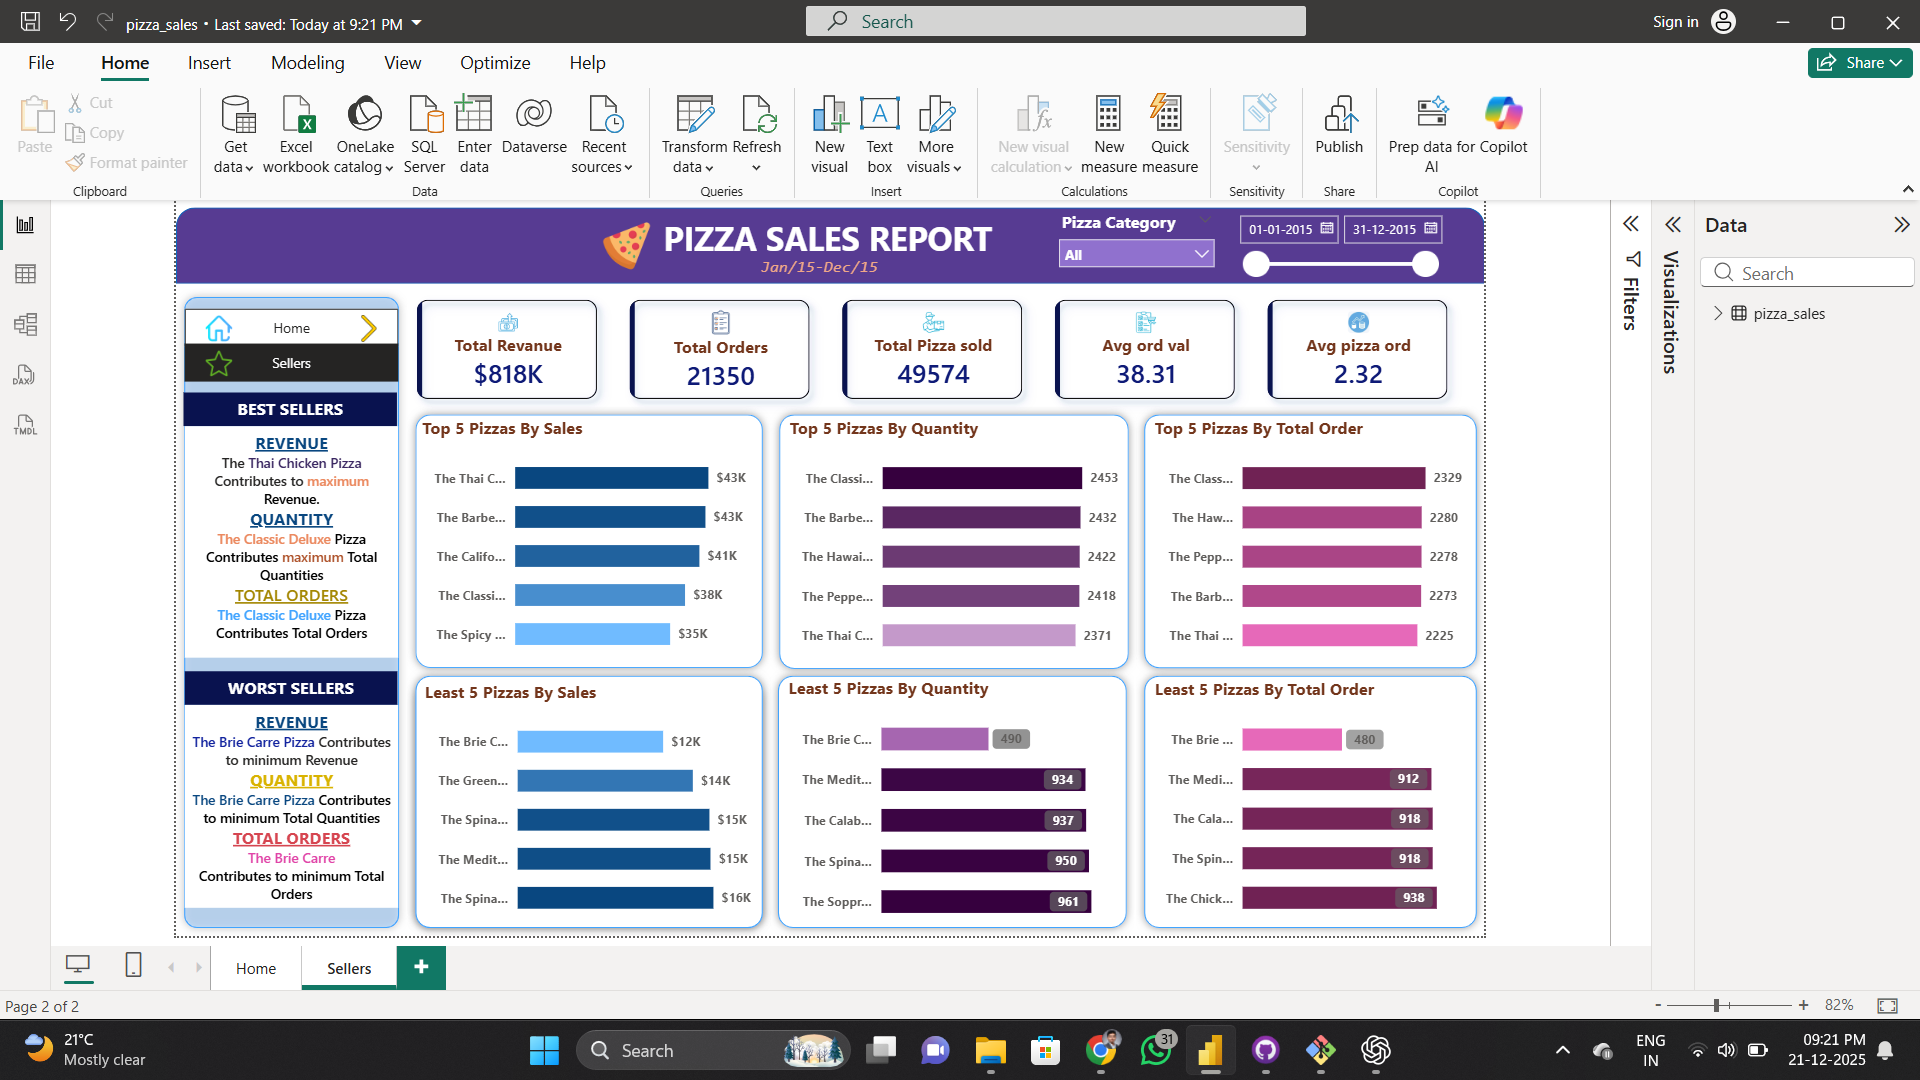

The page's visual inventory and layout, read from the dashboard file:
{"tool":"powerbi","page":{"name":"Sellers","canvas":[1280,720],"ordinal":1},"visuals":[{"type":"shape","box":[0,7.3,1280.3,74.6],"z":0},{"type":"textbox","box":[472,11,335.1,55],"z":1000},{"type":"textbox","box":[567.4,51.4,134.5,30.6],"z":2000},{"type":"cardVisual","fields":{"Data":["pizza_sales.Pizza sold"]},"box":[256.8,0,225,90.5],"z":3000},{"type":"shape","box":[226.2,201.8,355.8,264.1],"z":4000},{"type":"shape","box":[0,86.6,226.2,633.4],"z":5000},{"type":"textbox","box":[8.6,461,207.9,33],"z":6000},{"type":"textbox","box":[8.6,221.3,209.1,226.2],"z":7000},{"type":"textbox","box":[7.3,188.3,209.1,33],"z":8000},{"type":"textbox","box":[8.6,494,209.1,198.1],"z":9000},{"type":"slicer","fields":{"Values":["pizza_sales.pizza_category"]},"box":[853.5,4.9,172.4,67.3],"z":10000},{"type":"slicer","fields":{"Values":["pizza_sales.order_date"]},"box":[1028.4,4.9,215.2,81.9],"z":11000},{"type":"shape","box":[938.6,201.4,341.4,264.3],"z":12000},{"type":"shape","box":[582,202,358,265],"z":13000},{"type":"shape","box":[226.2,465.9,355.8,254.3],"z":14000},{"type":"shape","box":[581.4,457.1,357.1,262.9],"z":15000},{"type":"shape","box":[226.2,457.3,355.8,262.9],"z":16000},{"type":"shape","box":[938.6,457.1,341.4,262.9],"z":17000},{"type":"barChart","title":"Top 5 Pizzas By Sales ","fields":{"Category":["pizza_sales.pizza_name"],"Y":["pizza_sales.Total Revanue"]},"box":[236,211.6,331.4,245.8],"z":18000},{"type":"barChart","title":"Least 5 Pizzas By Sales ","fields":{"Category":["pizza_sales.pizza_name"],"Y":["pizza_sales.Total Revanue"]},"box":[238.5,469.6,331.4,245.8],"z":19000},{"type":"barChart","title":"Top 5 Pizzas By Quantity","fields":{"Category":["pizza_sales.pizza_name"],"Y":["pizza_sales.Total Pizza sold"]},"box":[595.7,211.4,332.9,247.1],"z":20000},{"type":"barChart","title":"Least 5 Pizzas By Quantity","fields":{"Category":["pizza_sales.pizza_name"],"Y":["pizza_sales.Total Pizza sold"]},"box":[594.3,465.7,332.9,254.3],"z":21000},{"type":"barChart","title":"Top 5 Pizzas By Total Order","fields":{"Category":["pizza_sales.pizza_name"],"Y":["pizza_sales.Total Orders"]},"box":[952.9,211.4,312.9,247.1],"z":22000},{"type":"barChart","title":"Least 5 Pizzas By Total Order","fields":{"Category":["pizza_sales.pizza_name"],"Y":["pizza_sales.Total Orders"]},"box":[952.9,467.1,312.9,248.6],"z":23000},{"type":"pageNavigator","box":[8.6,106.4,209.1,37.9],"z":24000},{"type":"pageNavigator","box":[8.6,140.6,209.1,37.9],"z":25000},{"type":"cardVisual","fields":{"Data":["Sum(pizza_sales.Month Number)"]},"box":[0,24.5,203,203],"z":26000},{"type":"cardVisual","fields":{"Data":["Sum(pizza_sales.Month Number)"]},"box":[0,58.7,203,203],"z":27000},{"type":"cardVisual","fields":{"Data":["Sum(pizza_sales.Month Number)"]},"box":[146.7,24.5,203,203],"z":28000},{"type":"cardVisual","fields":{"Data":["pizza_sales.Total Revanue","pizza_sales.Total Orders","pizza_sales.pizza_sold","pizza_sales.avg_ord_val","pizza_sales.avg_pizza_order"]},"box":[202.7,64.8,1077.3,163.9],"z":29000}]}

Visuals, with their boxes on the page's 1280x720 design canvas (x1, y1, x2, y2). These are canvas units, not pixel positions in the 1920x1080 screenshot, which may show the page scaled, cropped or inside an application window:
shape: [0,7,1280,82]
textbox: [472,11,807,66]
textbox: [567,51,702,82]
cardVisual - pizza_sales.Pizza sold: [257,0,482,90]
shape: [226,202,582,466]
shape: [0,87,226,720]
textbox: [9,461,216,494]
textbox: [9,221,218,448]
textbox: [7,188,216,221]
textbox: [9,494,218,692]
slicer - pizza_sales.pizza_category: [854,5,1026,72]
slicer - pizza_sales.order_date: [1028,5,1244,87]
shape: [939,201,1280,466]
shape: [582,202,940,467]
shape: [226,466,582,720]
shape: [581,457,938,720]
shape: [226,457,582,720]
shape: [939,457,1280,720]
"Top 5 Pizzas By Sales " barChart: [236,212,567,457]
"Least 5 Pizzas By Sales " barChart: [238,470,570,715]
"Top 5 Pizzas By Quantity" barChart: [596,211,929,458]
"Least 5 Pizzas By Quantity" barChart: [594,466,927,720]
"Top 5 Pizzas By Total Order" barChart: [953,211,1266,458]
"Least 5 Pizzas By Total Order" barChart: [953,467,1266,716]
pageNavigator: [9,106,218,144]
pageNavigator: [9,141,218,178]
cardVisual - Sum(pizza_sales.Month Number): [0,24,203,228]
cardVisual - Sum(pizza_sales.Month Number): [0,59,203,262]
cardVisual - Sum(pizza_sales.Month Number): [147,24,350,228]
cardVisual - pizza_sales.Total Revanue x pizza_sales.Total Orders: [203,65,1280,229]
